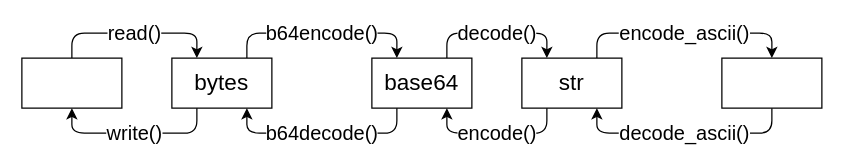
Image size: 844x166. Some labels were removed from this diagram. Each missing label, with the centre of its shape:
"01序列" goes at (771,82).
"图片" goes at (71,82).
